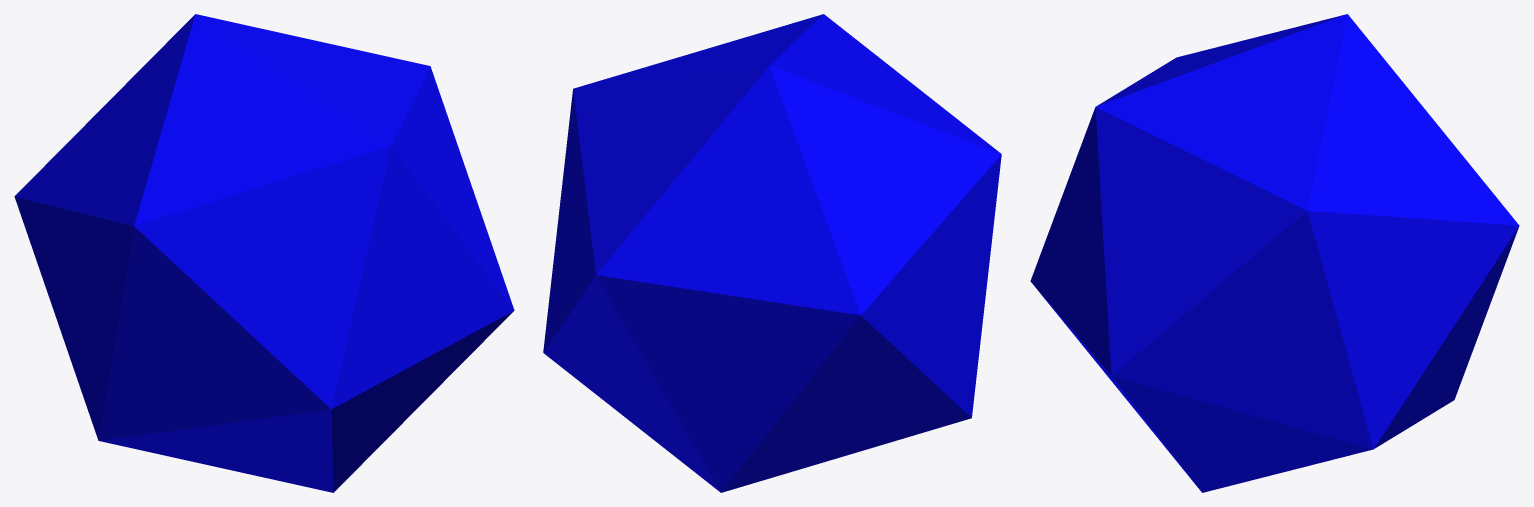
Rendered from Obj_BlueDot.glb.
The picture shows the model from 3 angles, left to right: view 1: azimuth 30°, elevation 25°; view 2: azimuth 150°, elevation 25°; view 3: azimuth 270°, elevation 25°; orthographic projection.
Parts seen in each view (by area): view 1: Obj_BlueDot; view 2: Obj_BlueDot; view 3: Obj_BlueDot.
Boxes of the visible parts, left/top/right/bottom form: Obj_BlueDot: left=14, top=14, right=514, bottom=492; Obj_BlueDot: left=543, top=14, right=1001, bottom=492; Obj_BlueDot: left=1030, top=14, right=1519, bottom=492.
Size of the model in its own units: 0.0654 by 0.0759 by 0.0753.
